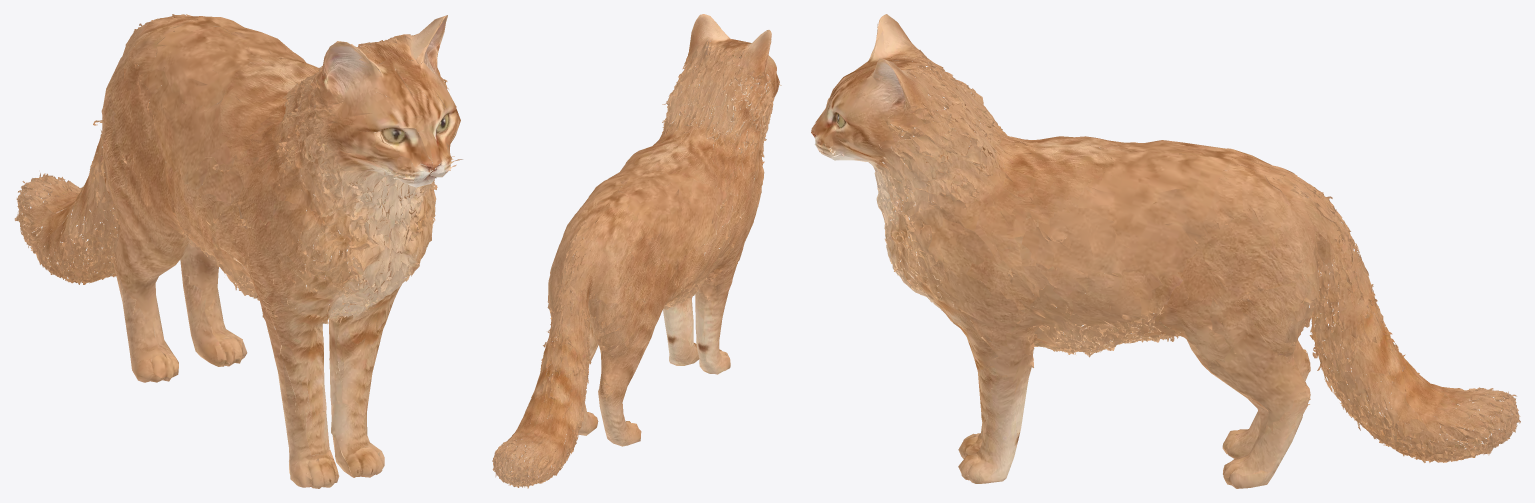
The model's file is meshy-laperm.glb.
The picture shows the model from 3 angles, left to right: view 1: azimuth 30°, elevation 25°; view 2: azimuth 150°, elevation 25°; view 3: azimuth 270°, elevation 25°; orthographic projection. The views are drawn at different scales.
Visible parts, largest first — view 1: Mesh_0; view 2: Mesh_0; view 3: Mesh_0.
Part boxes in pixels (x1=…): Mesh_0: x1=14, y1=14, x2=462, y2=488; Mesh_0: x1=492, y1=14, x2=781, y2=488; Mesh_0: x1=811, y1=14, x2=1520, y2=488.
Bounding box in the file's own units: 0.4528 × 1.26 × 1.89.
Materials: 1 (1 with a texture image).
